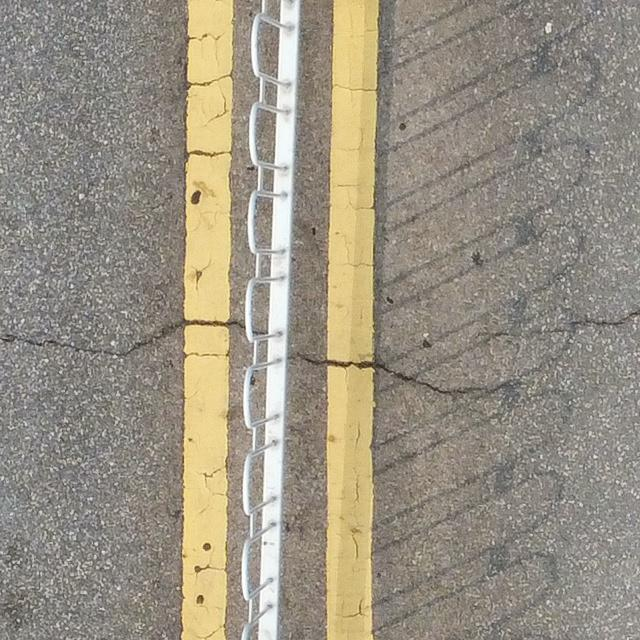TransverseCrack: (296, 306, 640, 396), (1, 319, 266, 359)
